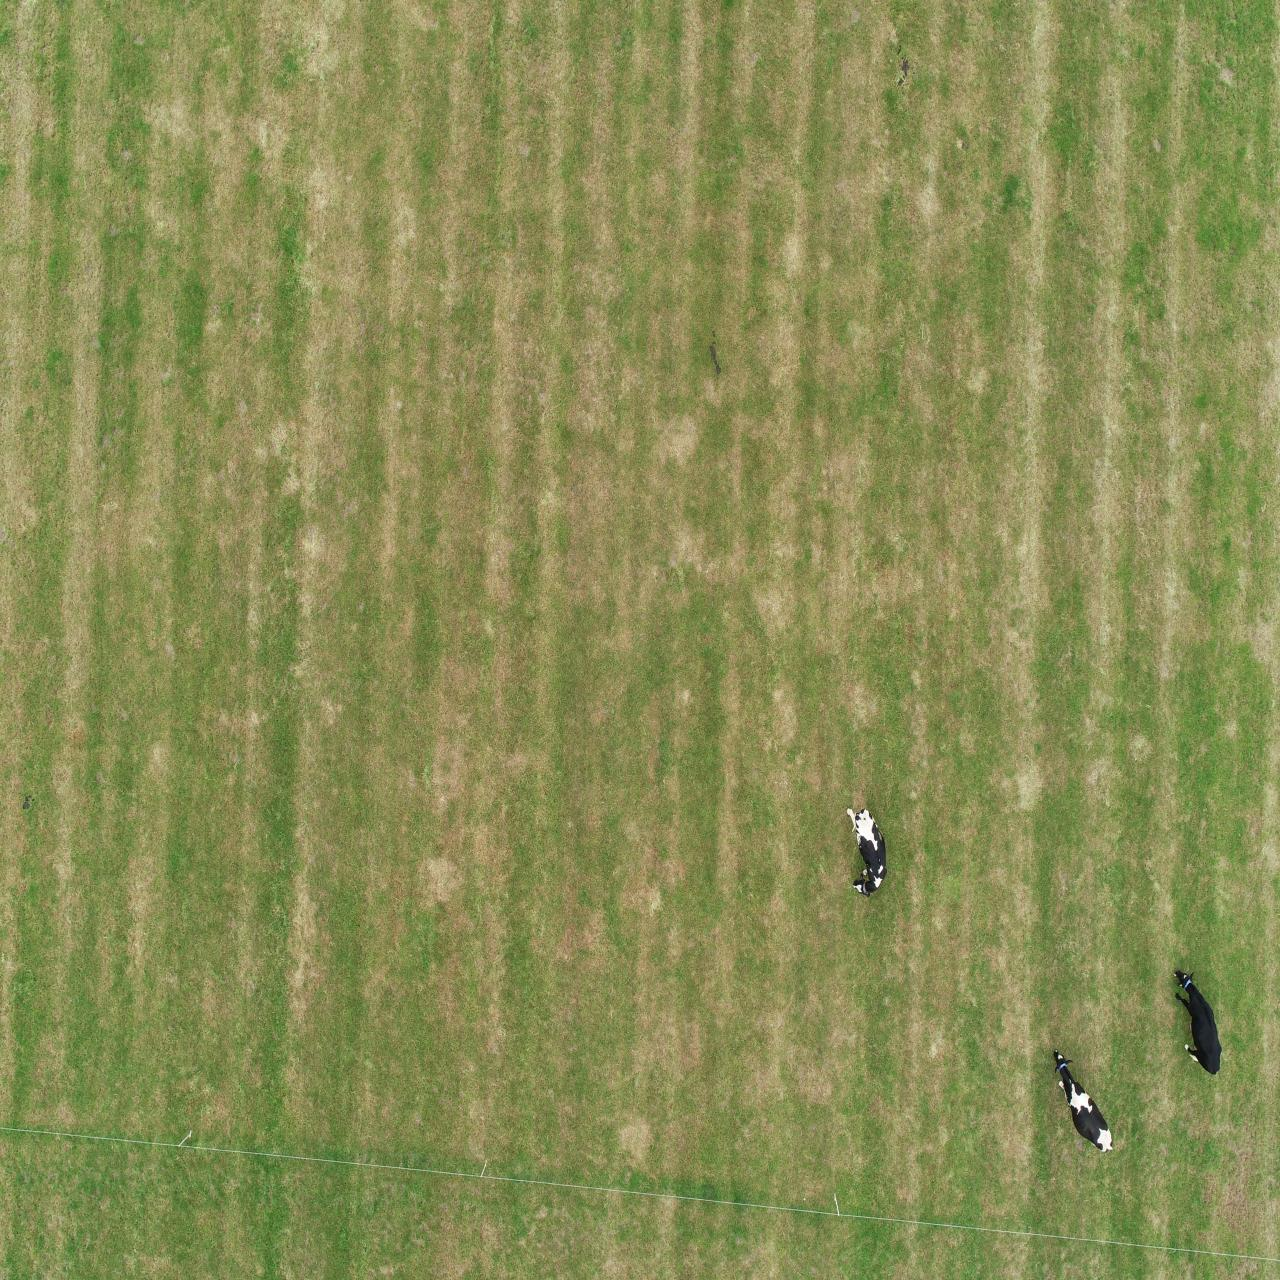cow: (1053, 1048, 1114, 1152), (1173, 968, 1221, 1075), (845, 808, 887, 898)
